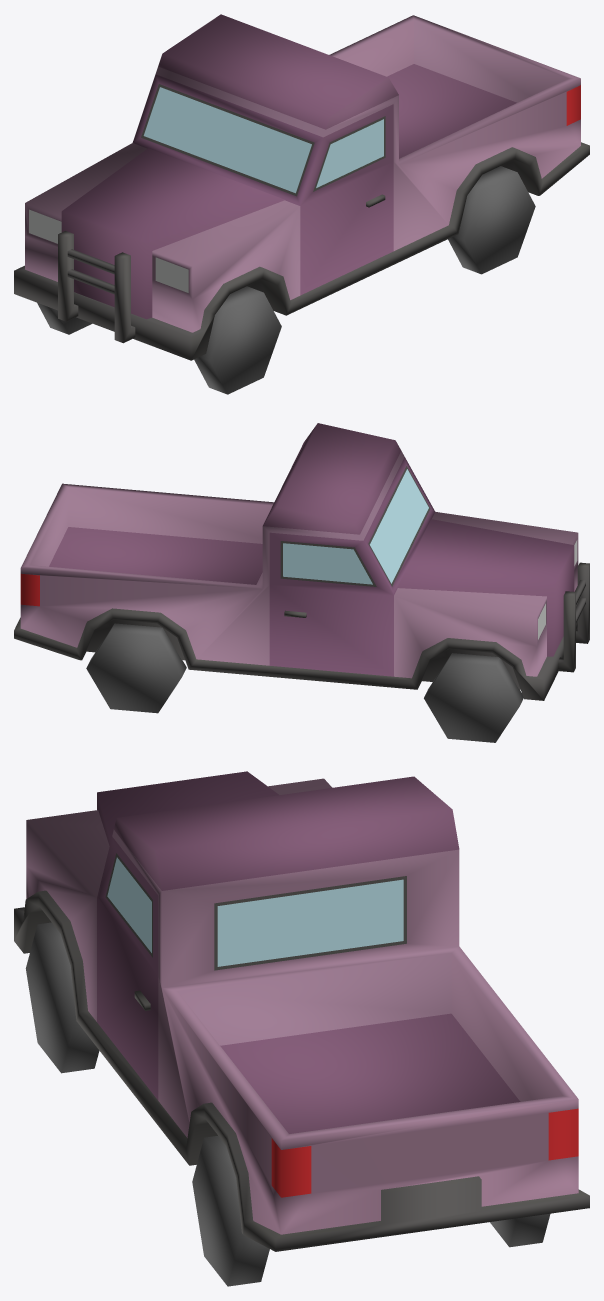
File: boxtruckonly.glb
3 renders of one model, top to bottom at view 1: azimuth 30°, elevation 25°; view 2: azimuth 150°, elevation 25°; view 3: azimuth 270°, elevation 25°, orthographic. The views are drawn at different scales.
Visible parts, largest first — view 1: Pickup_2; view 2: Pickup_2; view 3: Pickup_2.
Part boxes in pixels (x1,y1,x2,y2): Pickup_2: (14, 14, 589, 394); Pickup_2: (14, 423, 589, 742); Pickup_2: (14, 771, 589, 1286).
Size of the model in its own units: 56.25 by 22.85 by 36.13.
1 material, 1 textured.
